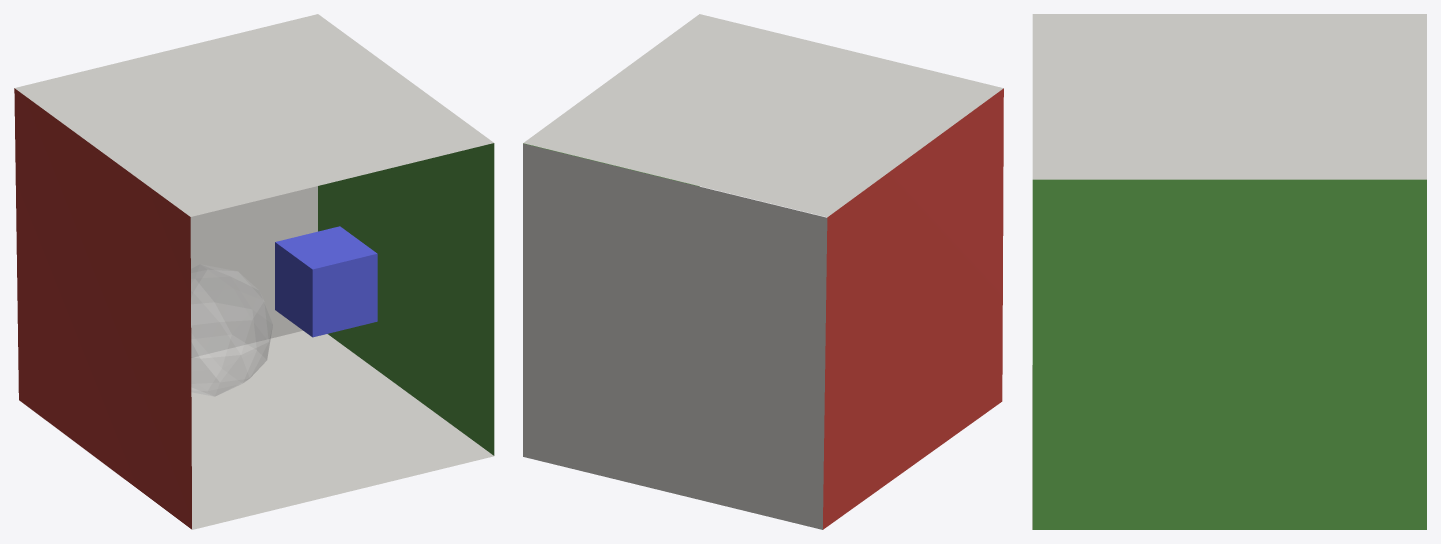
File: cornell_transmissive.glb
3 views of the same model, side by side, from view 1: azimuth 30°, elevation 25°; view 2: azimuth 150°, elevation 25°; view 3: azimuth 270°, elevation 25° (orthographic). The views are drawn at different scales.
Visible parts, largest first — view 1: Object_5, Object_3, Object_4, Object_7, Object_2, Cube.001, Icosphere; view 2: Object_2, Object_5, Object_3; view 3: Object_7, Object_3.
Part boxes in pixels (x1,y1,x2,y2): Object_5: (14,88,191,529); Object_3: (15,14,493,216); Object_4: (191,331,493,529); Object_7: (318,143,494,455); Object_2: (190,186,317,357); Cube.001: (275,226,377,337); Icosphere: (191,264,272,396); Object_2: (523,143,827,529); Object_5: (823,88,1003,529); Object_3: (523,14,1003,217); Object_7: (1032,179,1426,529); Object_3: (1032,14,1426,179).
Size of the model in its own units: 2.02 by 1.99 by 2.03.
